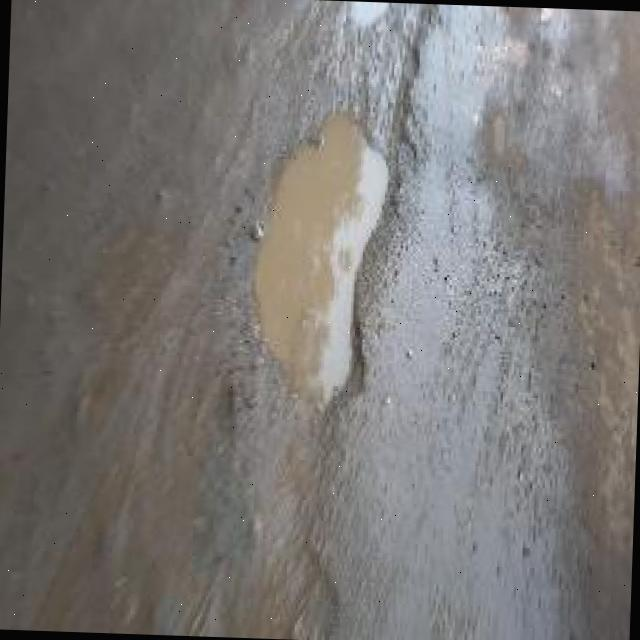stagnation: (219, 104, 395, 428)
